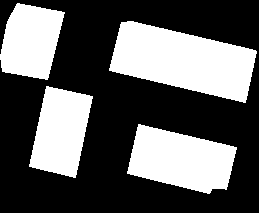parkingspot: (109, 21, 256, 102), (127, 124, 236, 193), (29, 86, 92, 177), (0, 3, 64, 79)
